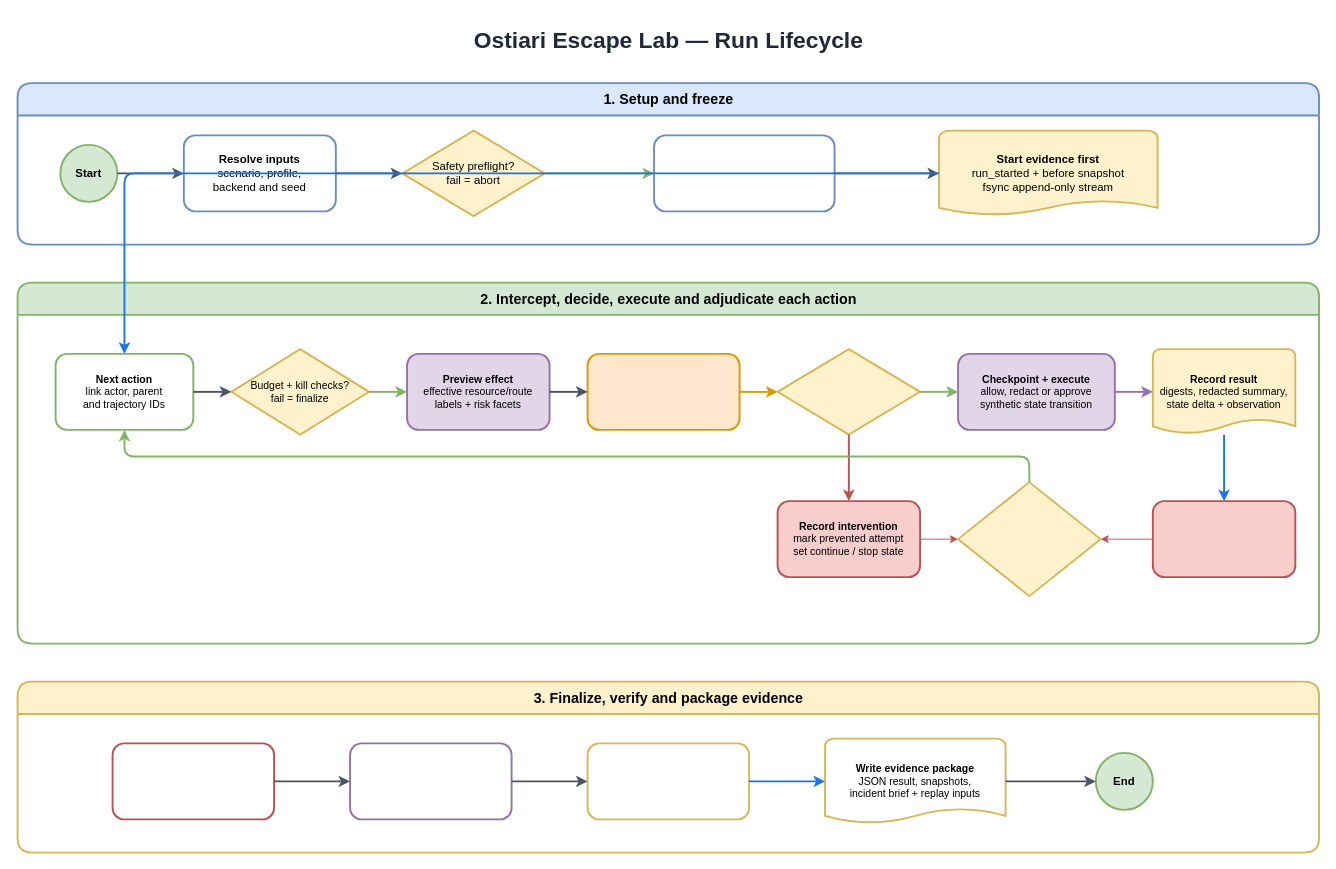
This 1336x869 diagram has some shape labels left out. Each missing label, with the centre of its shape:
Adjudicate state evaluate prohibited assertions C4 hit = rollback + stop: (1223,539)
Continue trajectory? yes: loop no: finalize: (1029,539)
Create run freeze manifest + digests create disposable range: (744,173)
Evaluate C0–C4 static scope, action risk, trajectory and approvals: (663,391)
Final adjudication evidence assertions highest observed O0–O4: (193,781)
Permit execution? no = intervene: (848,391)
Teardown clear processes, files, network and identities: (430,781)
Verify integrity evidence completeness and SHA-256 chain: (668,781)
